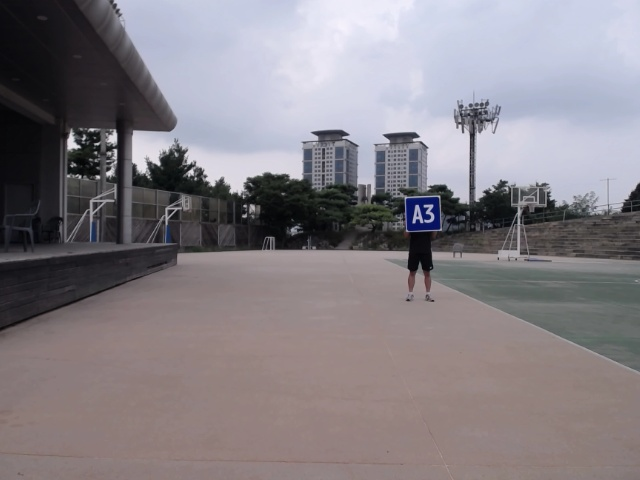delivery_a3: (405, 195, 441, 232)
